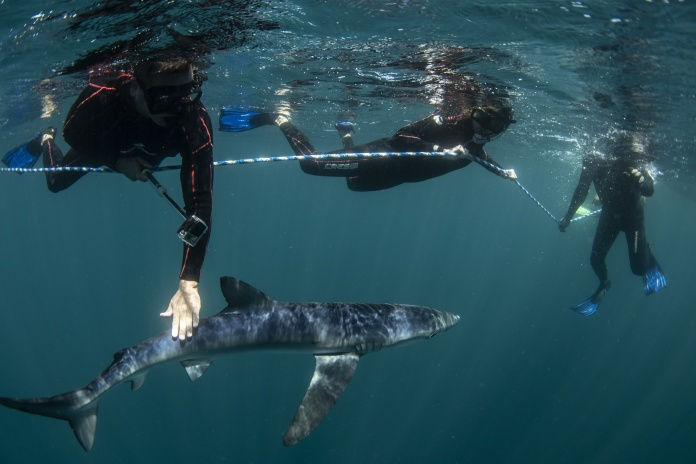Azul: (15, 264, 486, 464)
